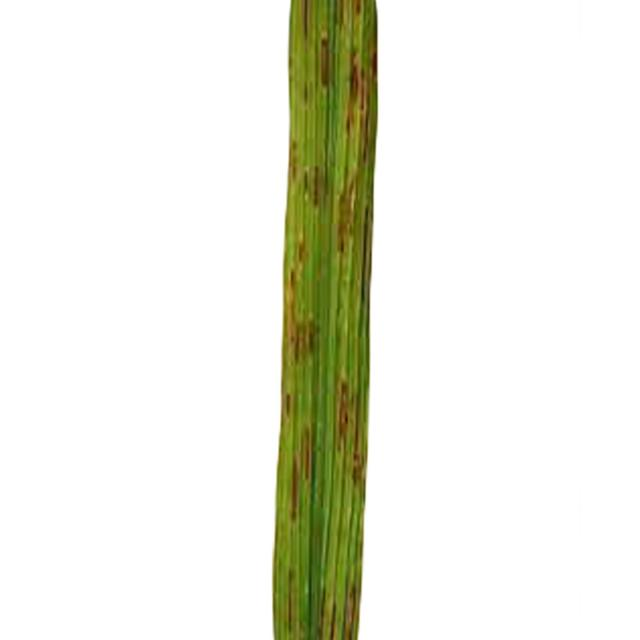Brown spot: (262, 1, 384, 640)
